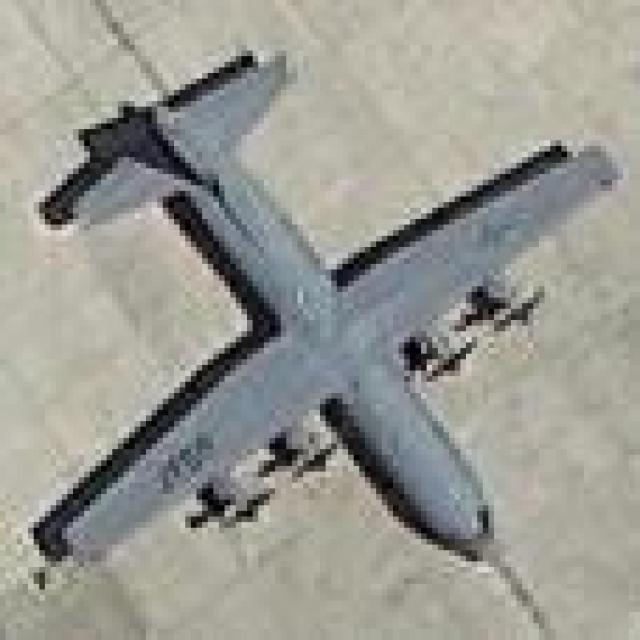C-130_TopDown: (22, 45, 630, 579)
